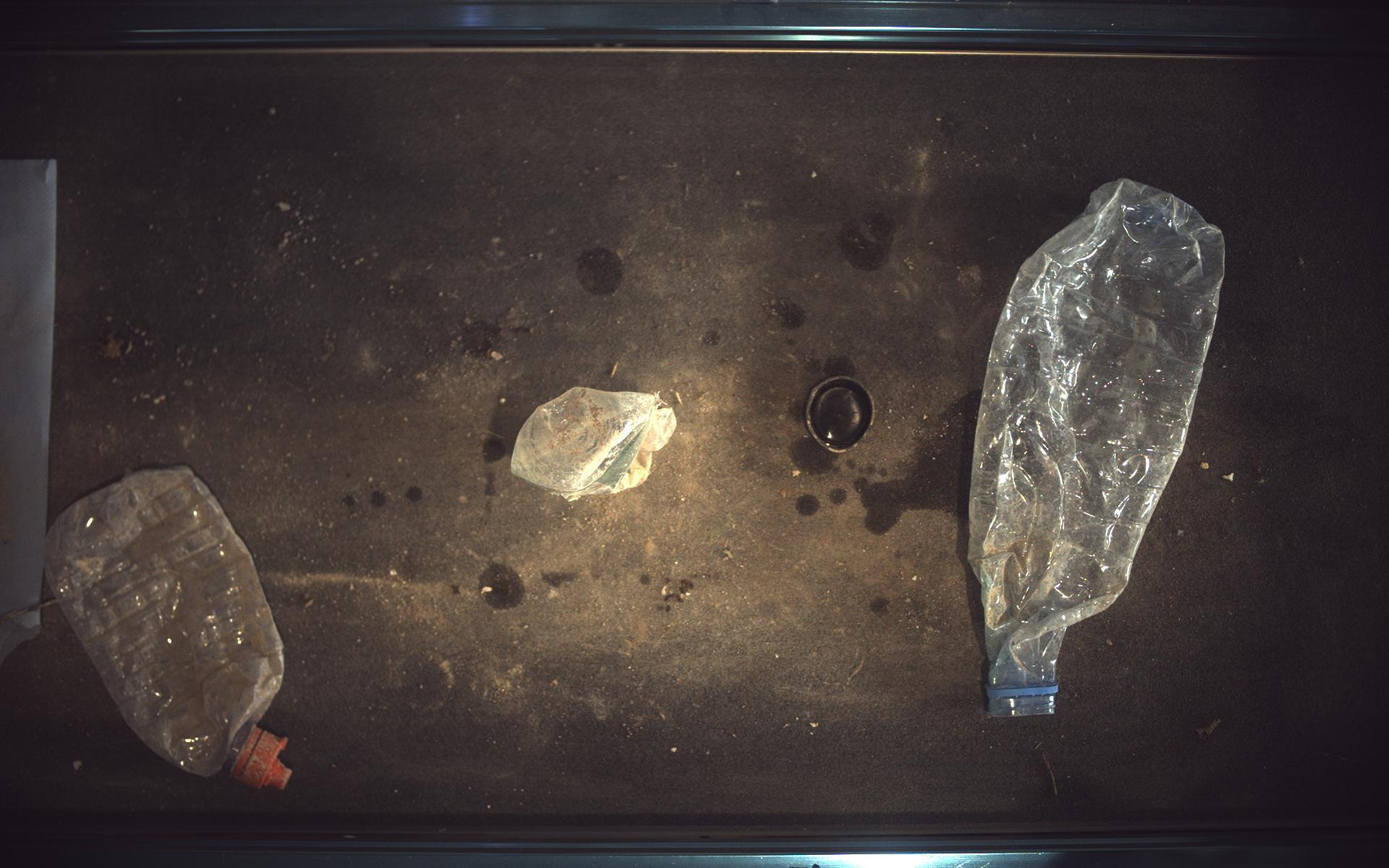general_w: (511, 387, 678, 501)
